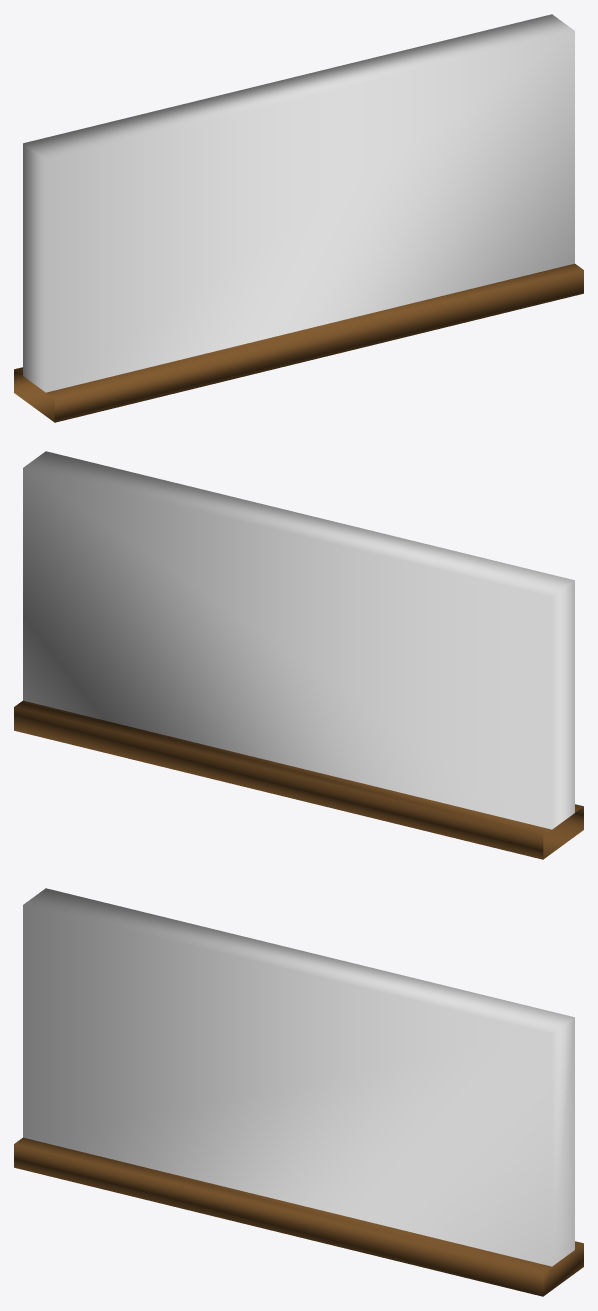
Rendered from Wall Doorway Middle.fbx.
3 views of the same model, one above another, from view 1: azimuth 30°, elevation 25°; view 2: azimuth 150°, elevation 25°; view 3: azimuth 330°, elevation 25° (orthographic).
Visible parts, largest first — view 1: wallDoorwayMiddle; view 2: wallDoorwayMiddle; view 3: wallDoorwayMiddle.
Boxes of the visible parts, x1,y1,x2,y2 form: wallDoorwayMiddle: (14, 14, 583, 422); wallDoorwayMiddle: (14, 451, 583, 859); wallDoorwayMiddle: (14, 888, 583, 1296).
Bounding box in the file's own units: 0.1337 × 0.4625 × 1.
